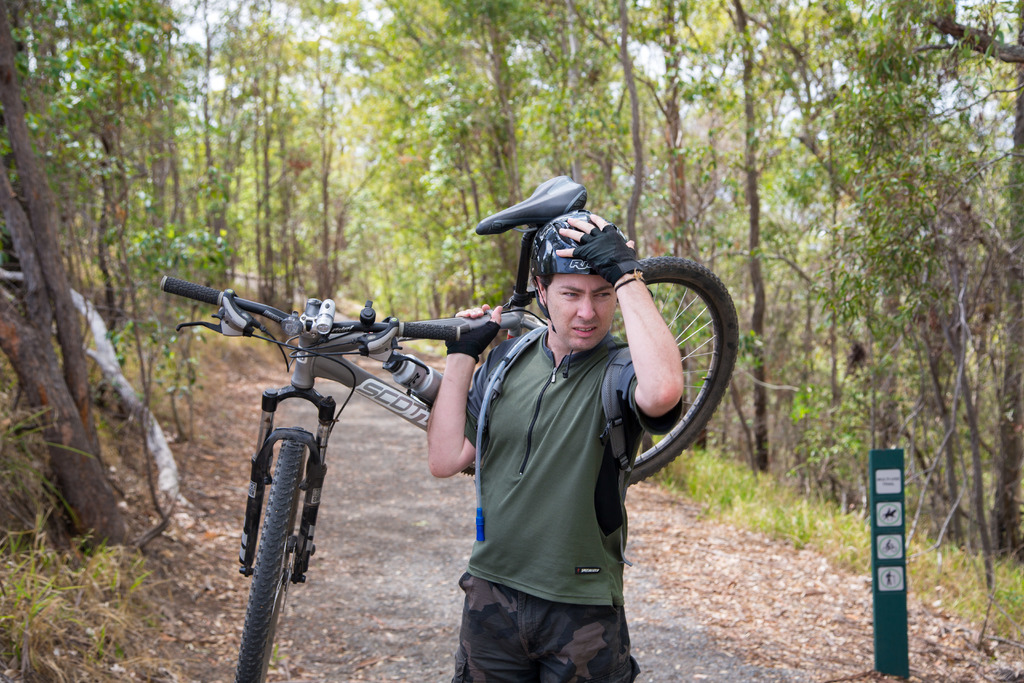Tree: (0, 0, 1024, 552)
